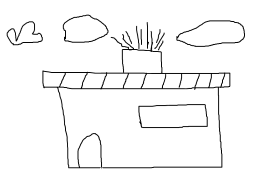clouds: (175, 17, 245, 48), (60, 13, 109, 43), (5, 19, 45, 46)
door: (74, 131, 106, 171)
open_window: (138, 102, 208, 128)
roof: (42, 70, 231, 89)
smoking_chimney: (110, 18, 170, 74)
wall: (56, 86, 223, 173)
